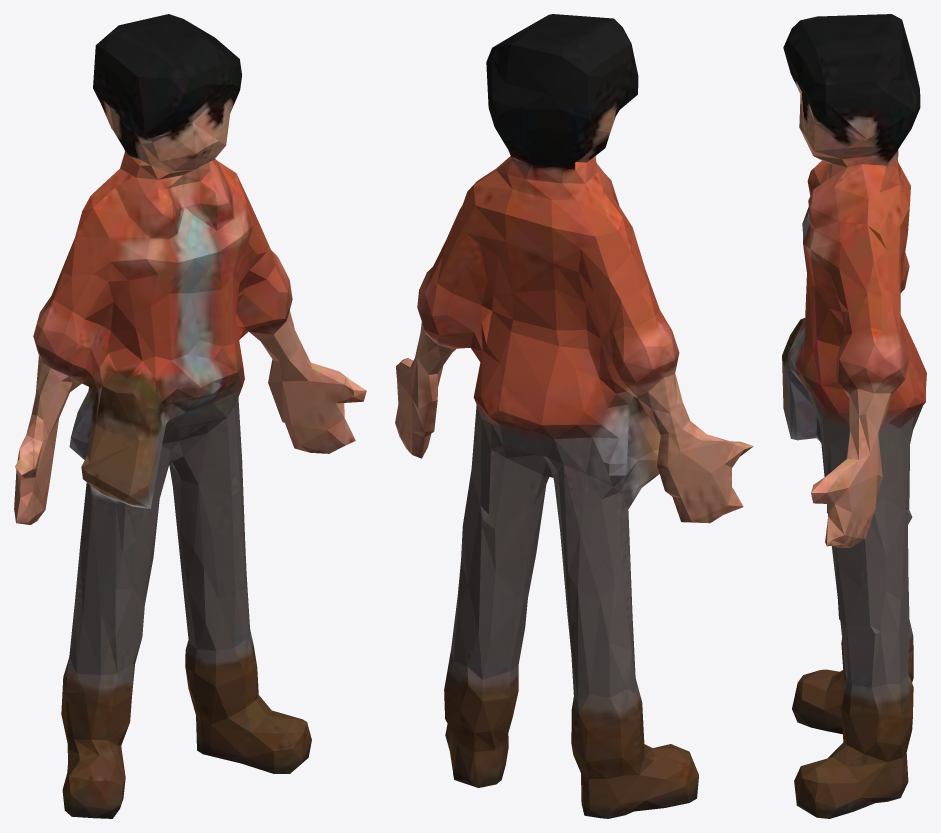
Rendered from habitant-loin.glb.
3 renders of one model, left to right at view 1: azimuth 30°, elevation 25°; view 2: azimuth 150°, elevation 25°; view 3: azimuth 270°, elevation 25°, orthographic. The views are drawn at different scales.
Visible parts, largest first — view 1: habitant; view 2: habitant; view 3: habitant.
Part boxes in pixels (box(x1,y1,x2,y2)): habitant: box(14, 14, 366, 818); habitant: box(395, 14, 753, 818); habitant: box(782, 14, 926, 818).
Size of the model in its own units: 0.4884 by 1.01 by 0.18.
1 material, 1 textured.
